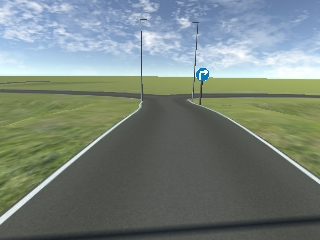right: (196, 69, 209, 81)
